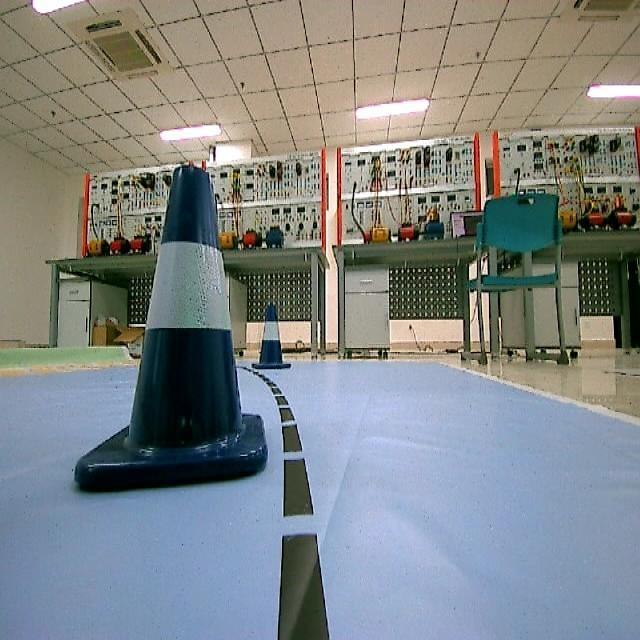obstacle: (72, 160, 272, 490), (256, 299, 290, 373)
